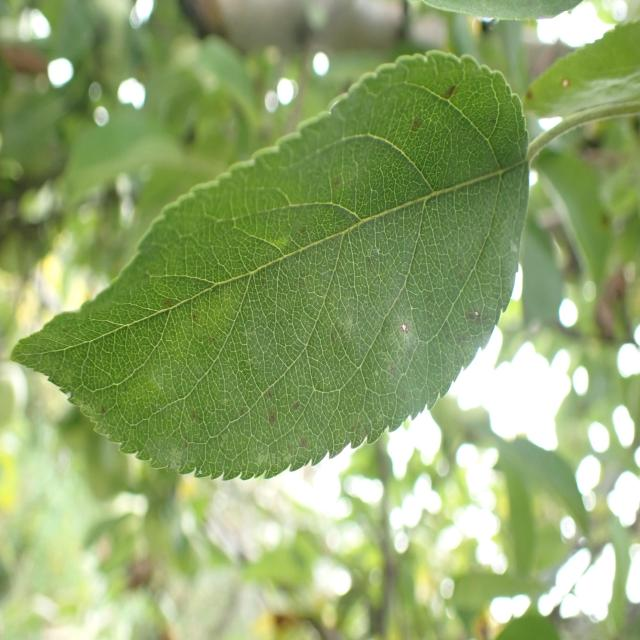Powdery_mildew: (35, 39, 536, 489)
